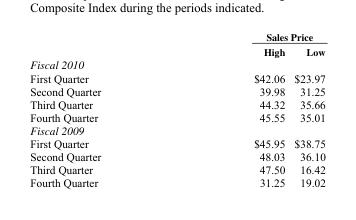table: (29, 29, 324, 188)
table column: (29, 29, 176, 188), (176, 29, 288, 188), (288, 29, 324, 188)
table column header: (29, 29, 324, 57)
table projected row header: (29, 57, 324, 71), (29, 123, 324, 136)
table row: (29, 29, 324, 43), (29, 43, 324, 57), (29, 57, 324, 71), (29, 71, 324, 84), (29, 84, 324, 97), (29, 97, 324, 110), (29, 110, 324, 123), (29, 123, 324, 136), (29, 136, 324, 149), (29, 149, 324, 162), (29, 162, 324, 175), (29, 175, 324, 188)
table spanning cell: (176, 29, 324, 43)
